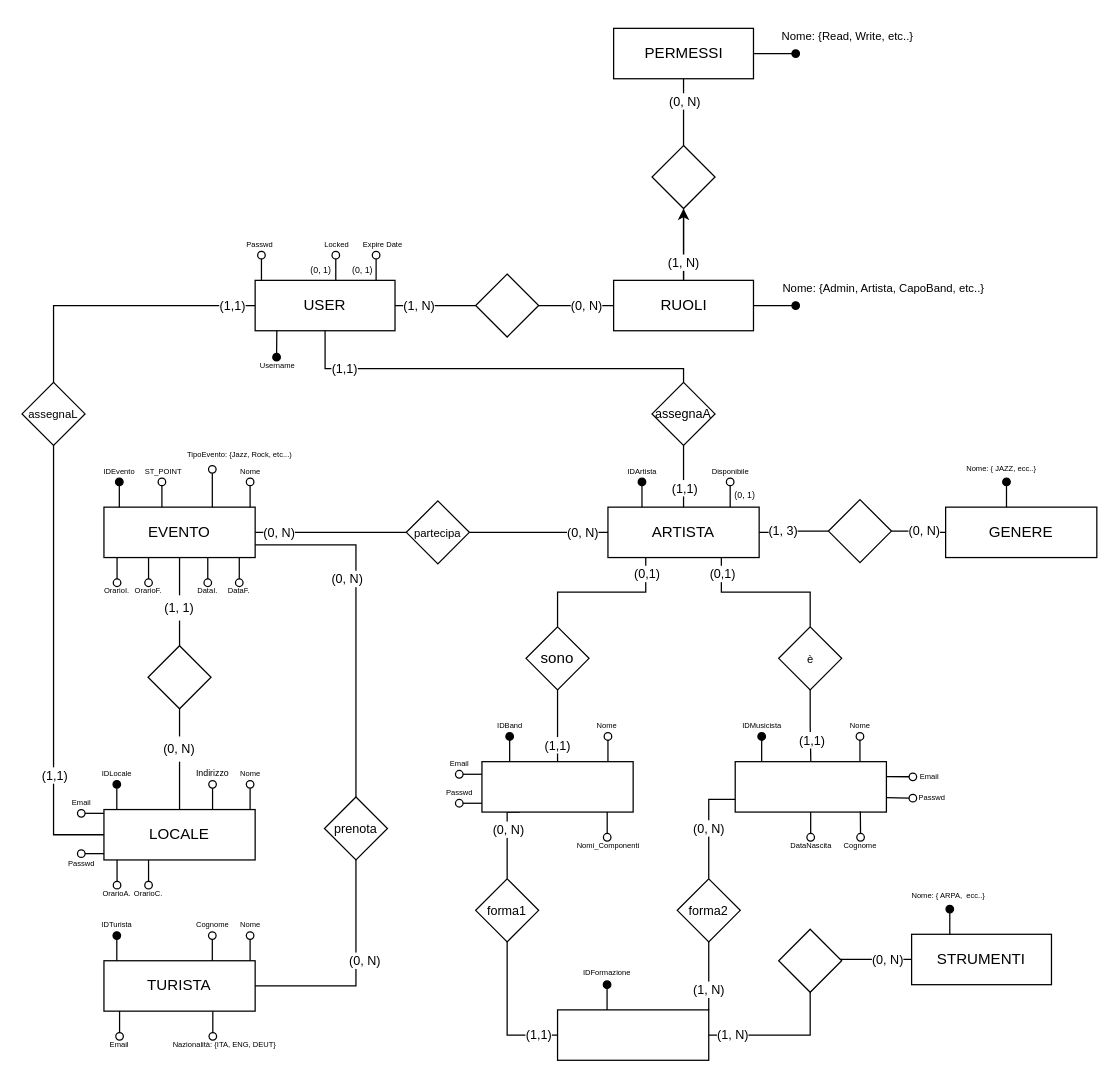
Image size: 1119x1082. Some labels were removed from this diagram. The centre of each missing label's shape, as x and y in pixels:
BAND: [557,786]
crea: [179,676]
esegue: [859,530]
forma3: [809,960]
FORMAZIONE: [632,1034]
gestire: [683,176]
MUSICISTA: [810,786]
ricoprire: [506,305]
